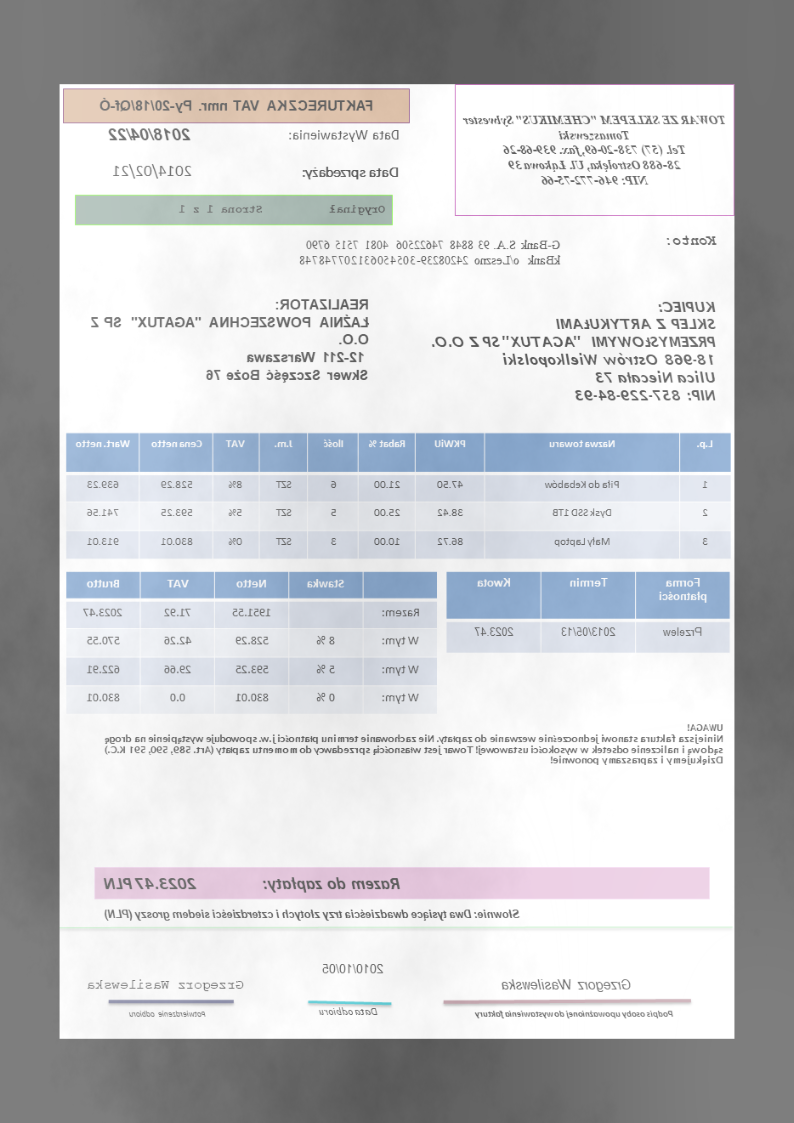Table: (65, 432, 733, 559), (65, 570, 439, 714), (446, 571, 731, 654)
TextBox: (428, 298, 720, 405), (102, 719, 726, 768), (88, 295, 372, 385), (462, 110, 728, 190), (298, 236, 565, 270), (99, 904, 523, 924), (100, 870, 406, 896), (99, 95, 378, 113), (178, 200, 387, 218), (472, 1005, 678, 1021), (499, 972, 634, 994), (86, 976, 248, 993), (287, 126, 401, 144), (300, 162, 401, 182), (106, 123, 196, 145), (110, 161, 195, 182), (126, 1006, 209, 1022), (320, 959, 388, 978), (666, 231, 720, 248), (316, 1003, 380, 1017)
